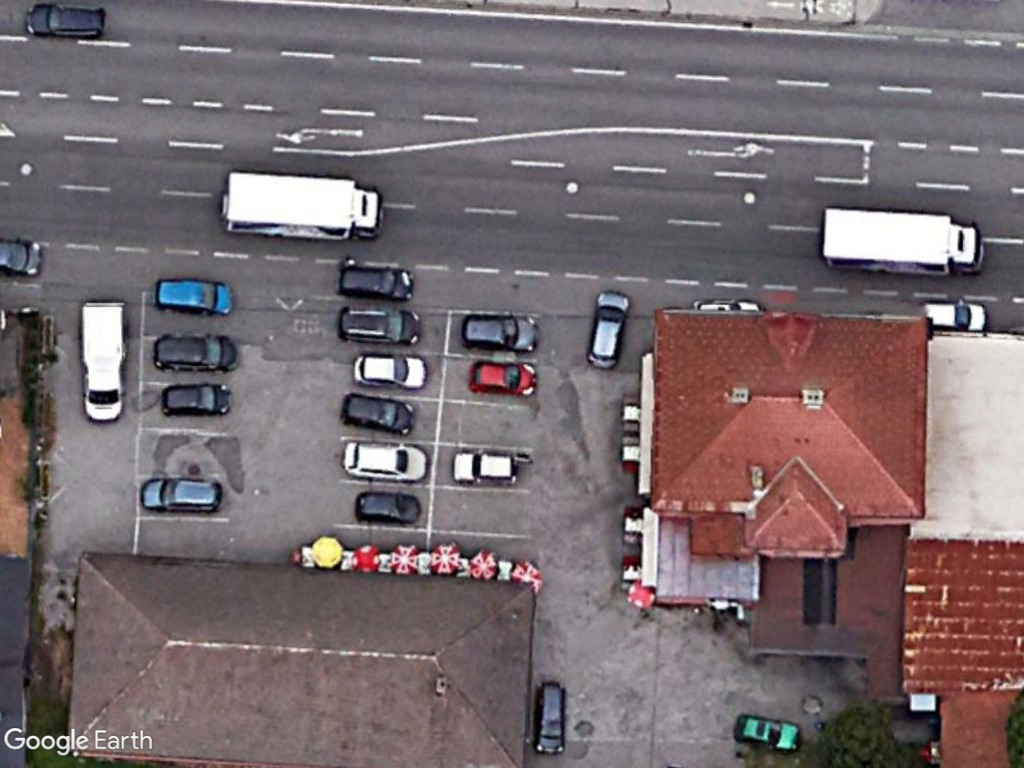car: (329, 302, 430, 349), (334, 438, 433, 485), (582, 286, 635, 373), (146, 329, 245, 373), (337, 388, 420, 438), (136, 472, 228, 517), (149, 273, 245, 316), (334, 260, 420, 305), (457, 309, 543, 353), (527, 679, 572, 762), (348, 351, 434, 394), (466, 356, 542, 404), (157, 376, 238, 419), (731, 710, 808, 755), (348, 487, 428, 530), (21, 0, 111, 37), (446, 448, 523, 490)
truck: (215, 166, 390, 246), (811, 203, 992, 279)
van: (76, 292, 131, 429)
